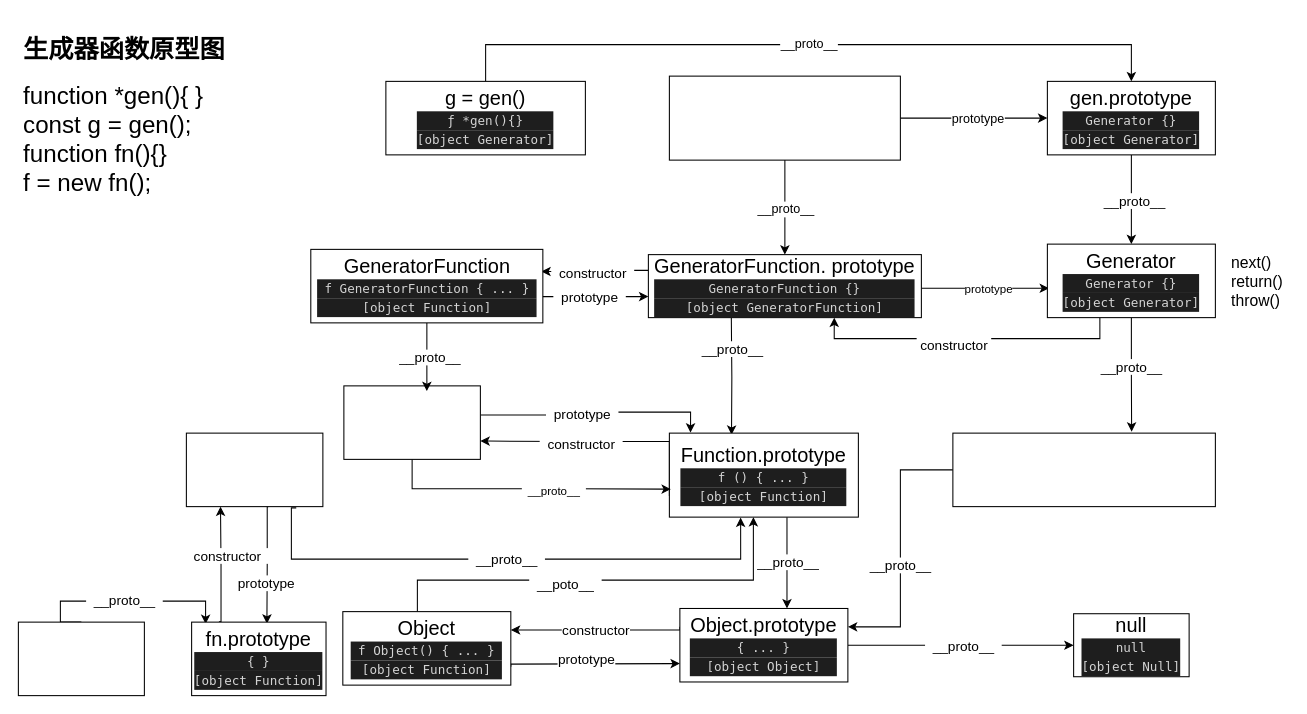
Image size: 1307x714. Some labels were removed from this diagram. Each missing label, with the centre of its shape:
f fn { } [object Object]: point 80,658
fn f fn { } [object Function]: point 254,469
Function f () { ... } [object Function]: point 411,422
gen ƒ *gen(){} [object GeneratorFunction]: point 784,117
{Symbol(Symbol.iterator): ƒ} {Symbol(Symbol.iterator): ƒ} [object Object]: point 1083,469
